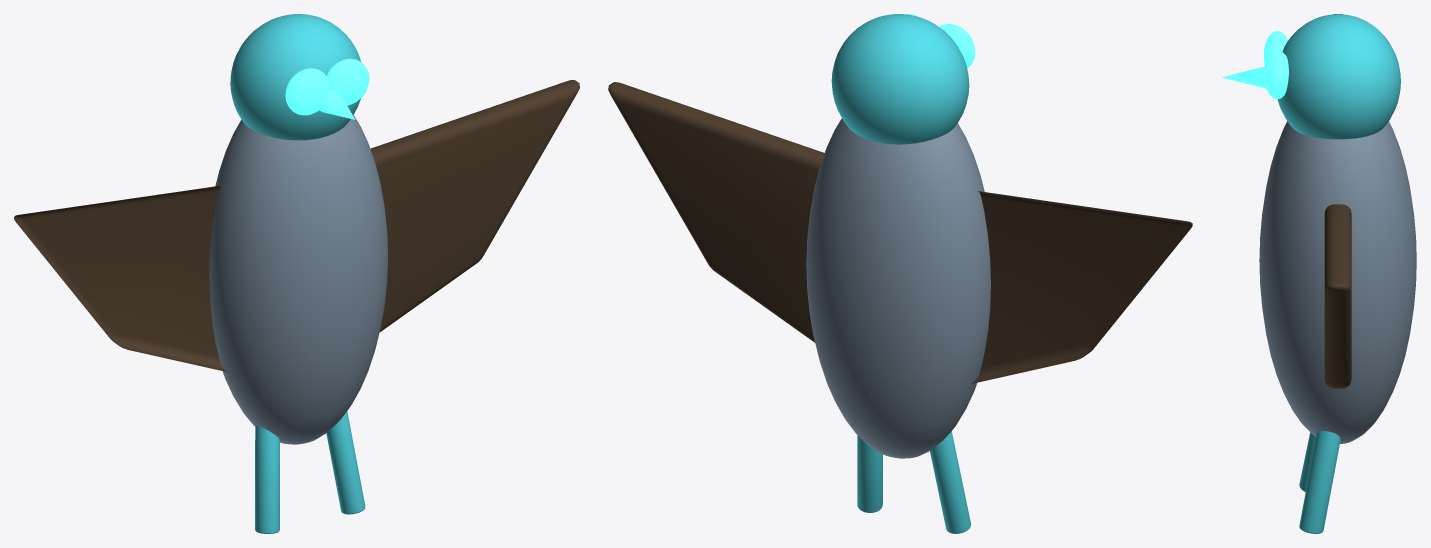
File: avian_v3.glb
3 renders of one model, left to right at view 1: azimuth 30°, elevation 25°; view 2: azimuth 150°, elevation 25°; view 3: azimuth 270°, elevation 25°, orthographic. The views are drawn at different scales.
Visible parts, largest first — view 1: RAPTOR_BODY_PRIMARY, RAPTOR_WING_SECONDARY.001, RAPTOR_WING_SECONDARY, RAPTOR_HEAD_ACCENT, RAPTOR_LEG_ACCENT, RAPTOR_LEG_ACCENT.001, EYE_EMISSIVE, EYE_EMISSIVE.001; view 2: RAPTOR_BODY_PRIMARY, RAPTOR_WING_SECONDARY.001, RAPTOR_WING_SECONDARY, RAPTOR_HEAD_ACCENT, RAPTOR_LEG_ACCENT, RAPTOR_LEG_ACCENT.001, EYE_EMISSIVE; view 3: RAPTOR_BODY_PRIMARY, RAPTOR_HEAD_ACCENT, RAPTOR_WING_SECONDARY.001, RAPTOR_LEG_ACCENT.001, EYE_EMISSIVE.001, RAPTOR_BEAK_EMISSIVE, RAPTOR_LEG_ACCENT, EYE_EMISSIVE.
Boxes of the visible parts, box(x1,y1,x2,y2) form: RAPTOR_BODY_PRIMARY: box(209, 115, 388, 444); RAPTOR_WING_SECONDARY.001: box(370, 80, 579, 332); RAPTOR_WING_SECONDARY: box(14, 185, 228, 372); RAPTOR_HEAD_ACCENT: box(230, 14, 360, 140); RAPTOR_LEG_ACCENT: box(255, 425, 279, 533); RAPTOR_LEG_ACCENT.001: box(326, 411, 365, 514); EYE_EMISSIVE: box(285, 68, 329, 115); EYE_EMISSIVE.001: box(326, 58, 369, 105); RAPTOR_BODY_PRIMARY: box(806, 118, 990, 458); RAPTOR_WING_SECONDARY.001: box(608, 82, 824, 342); RAPTOR_WING_SECONDARY: box(971, 191, 1192, 383); RAPTOR_HEAD_ACCENT: box(831, 14, 969, 144); RAPTOR_LEG_ACCENT: box(930, 431, 971, 533); RAPTOR_LEG_ACCENT.001: box(857, 435, 882, 512); EYE_EMISSIVE: box(939, 24, 975, 68); RAPTOR_BODY_PRIMARY: box(1259, 121, 1416, 443); RAPTOR_HEAD_ACCENT: box(1277, 14, 1400, 139); RAPTOR_WING_SECONDARY.001: box(1324, 204, 1351, 388); RAPTOR_LEG_ACCENT.001: box(1299, 430, 1340, 533); EYE_EMISSIVE.001: box(1263, 50, 1288, 99); RAPTOR_BEAK_EMISSIVE: box(1222, 66, 1265, 88); RAPTOR_LEG_ACCENT: box(1299, 432, 1315, 491); EYE_EMISSIVE: box(1263, 31, 1287, 64).
Bounding box in the file's own units: 2.35 × 1.98 × 0.7134.
